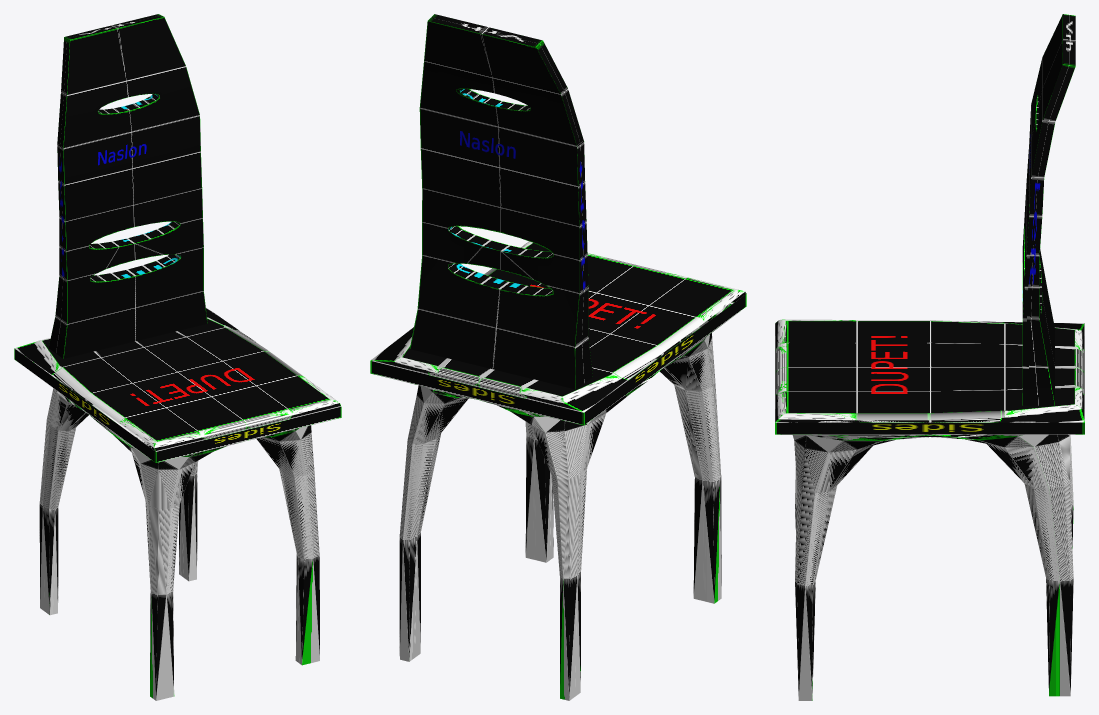
Rendered from chair_dining.FBX.
3 renders of one model, left to right at view 1: azimuth 30°, elevation 25°; view 2: azimuth 150°, elevation 25°; view 3: azimuth 270°, elevation 25°, orthographic. The views are drawn at different scales.
Parts seen in each view (by area): view 1: Box002; view 2: Box002; view 3: Box002.
Part boxes in pixels (x1,y1,x2,y2): Box002: (14, 14, 341, 700); Box002: (370, 14, 746, 700); Box002: (775, 14, 1084, 700).
Bounding box in the file's own units: 45.01 × 59.13 × 130.
Materials: 1 (1 with a texture image).
